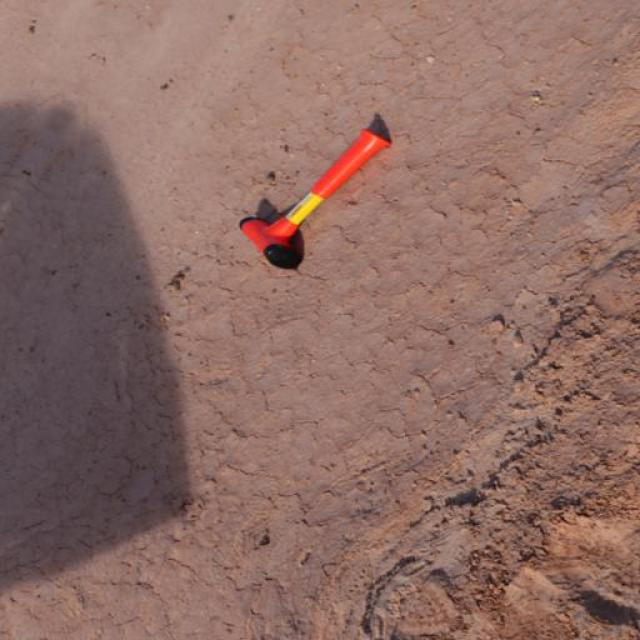mallet: (238, 110, 392, 270)
